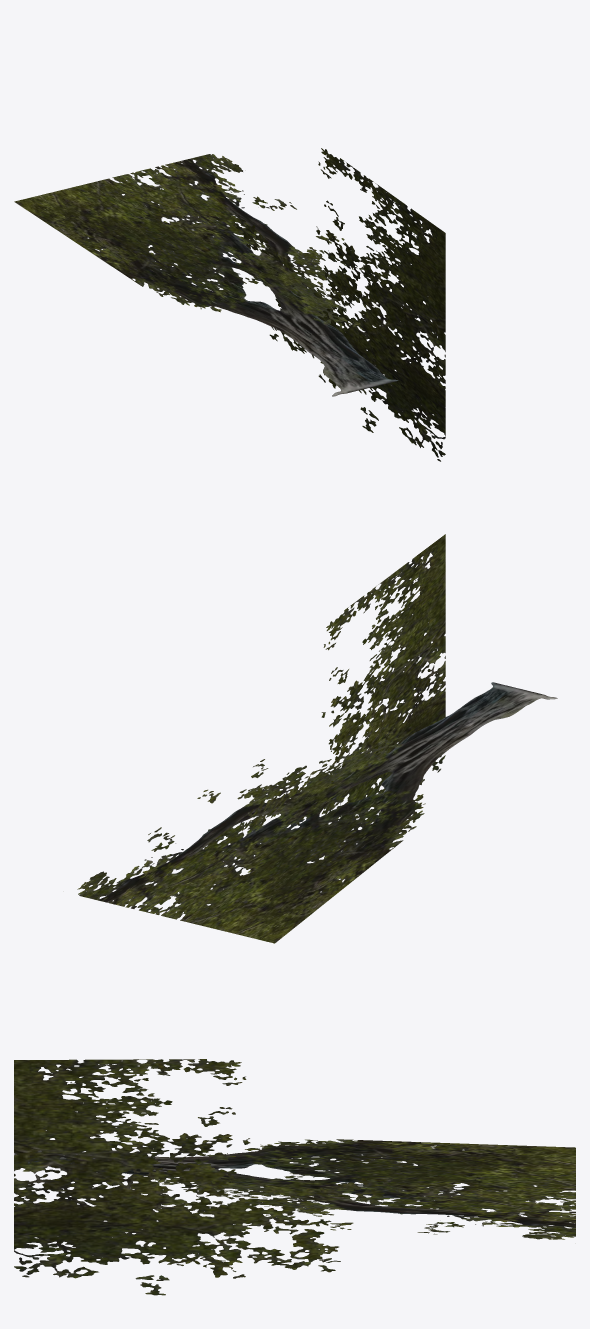
Rendered from Tree1.003_LowDetail.fbx.
3 renders of one model, top to bottom at view 1: azimuth 30°, elevation 25°; view 2: azimuth 150°, elevation 25°; view 3: azimuth 270°, elevation 25°, orthographic. The views are drawn at different scales.
Visible parts, largest first — view 1: Plane.003; view 2: Plane.003; view 3: Plane.003.
Boxes of the visible parts, x1,y1,x2,y2 form: Plane.003: (14,148,445,461); Plane.003: (77,534,557,943); Plane.003: (14,1059,575,1295).
Bounding box in the file's own units: 312 × 312 × 625.
